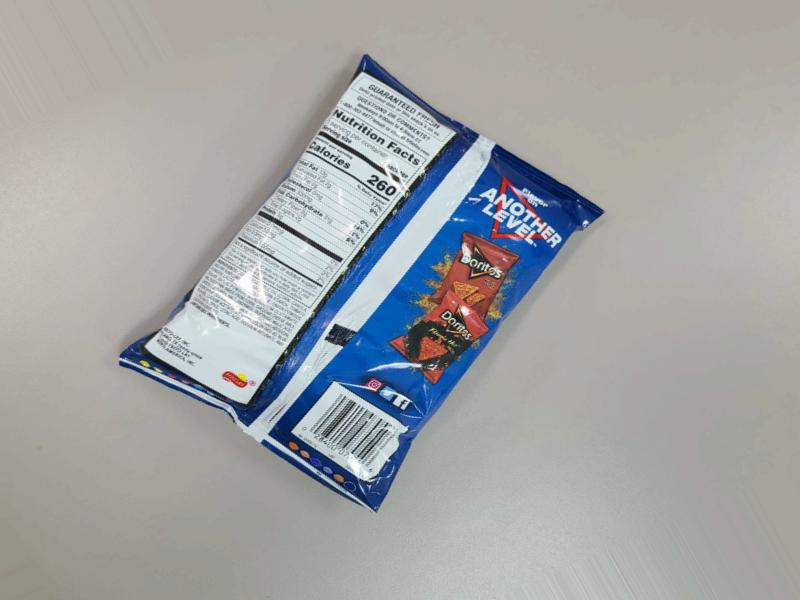doritos: (199, 19, 532, 540)
